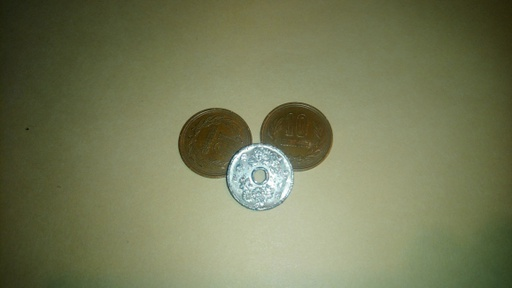10yen: (178, 108, 252, 178), (259, 102, 332, 171)
50yen: (226, 143, 294, 211)
